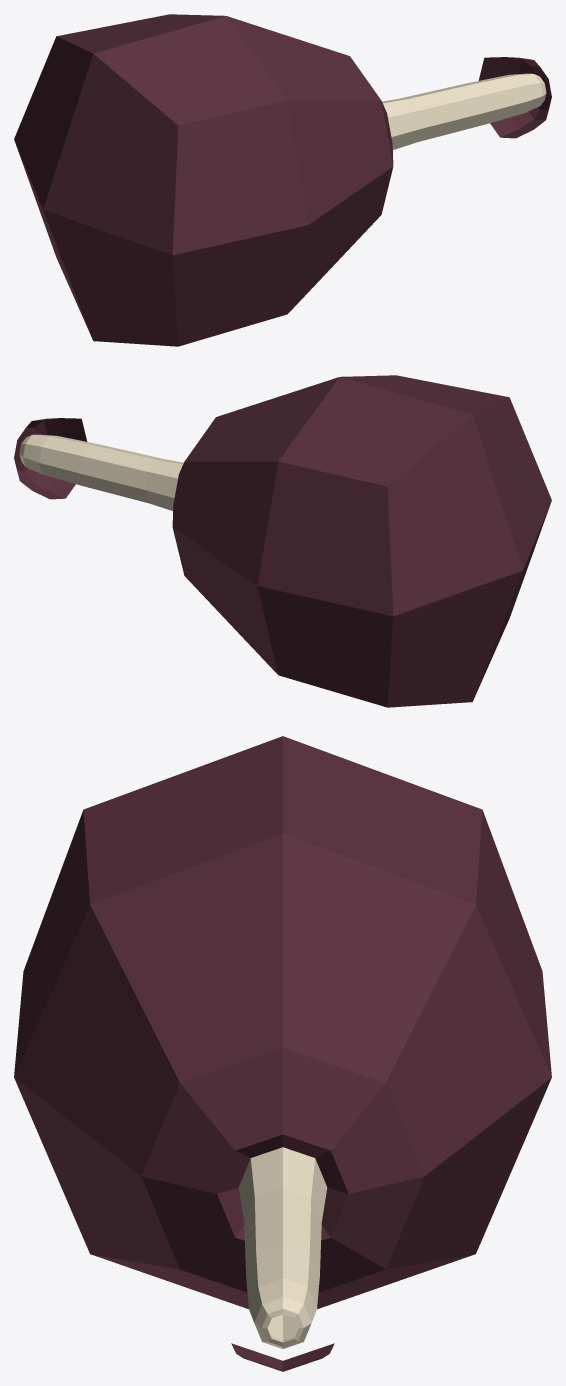
The model's file is sucker.fbx.
3 views of the same model, one above another, from view 1: azimuth 30°, elevation 25°; view 2: azimuth 150°, elevation 25°; view 3: azimuth 270°, elevation 25° (orthographic). The views are drawn at different scales.
Visible parts, largest first — view 1: Cube; view 2: Cube; view 3: Cube.
Part boxes in pixels (x1=…): Cube: x1=14, y1=14, x2=551, y2=346; Cube: x1=14, y1=375, x2=551, y2=707; Cube: x1=14, y1=736, x2=551, y2=1371.
Bounding box in the file's own units: 1207 × 690 × 690.
